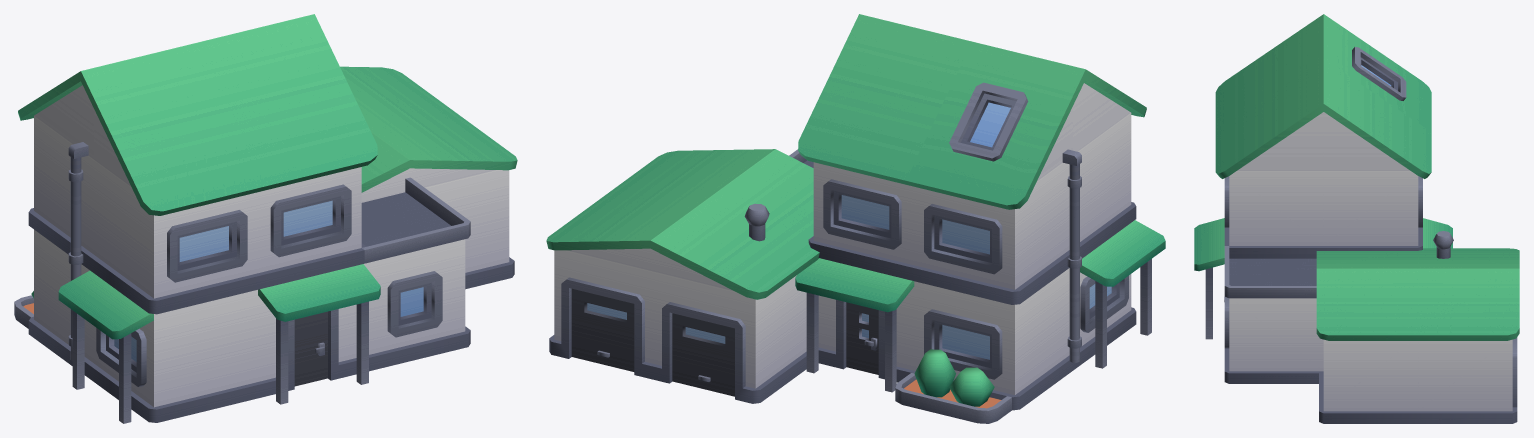
The model's file is building-type-n.glb.
3 views of the same model, side by side, from view 1: azimuth 30°, elevation 25°; view 2: azimuth 150°, elevation 25°; view 3: azimuth 270°, elevation 25° (orthographic). The views are drawn at different scales.
Visible parts, largest first — view 1: building-type-n; view 2: building-type-n; view 3: building-type-n.
Boxes of the visible parts, x1,y1,x2,y2 form: building-type-n: (14, 14, 517, 423); building-type-n: (546, 14, 1165, 423); building-type-n: (1194, 14, 1519, 423).
Bounding box in the file's own units: 1.78 × 1.14 × 1.38.
Materials: 1 (1 with a texture image).
